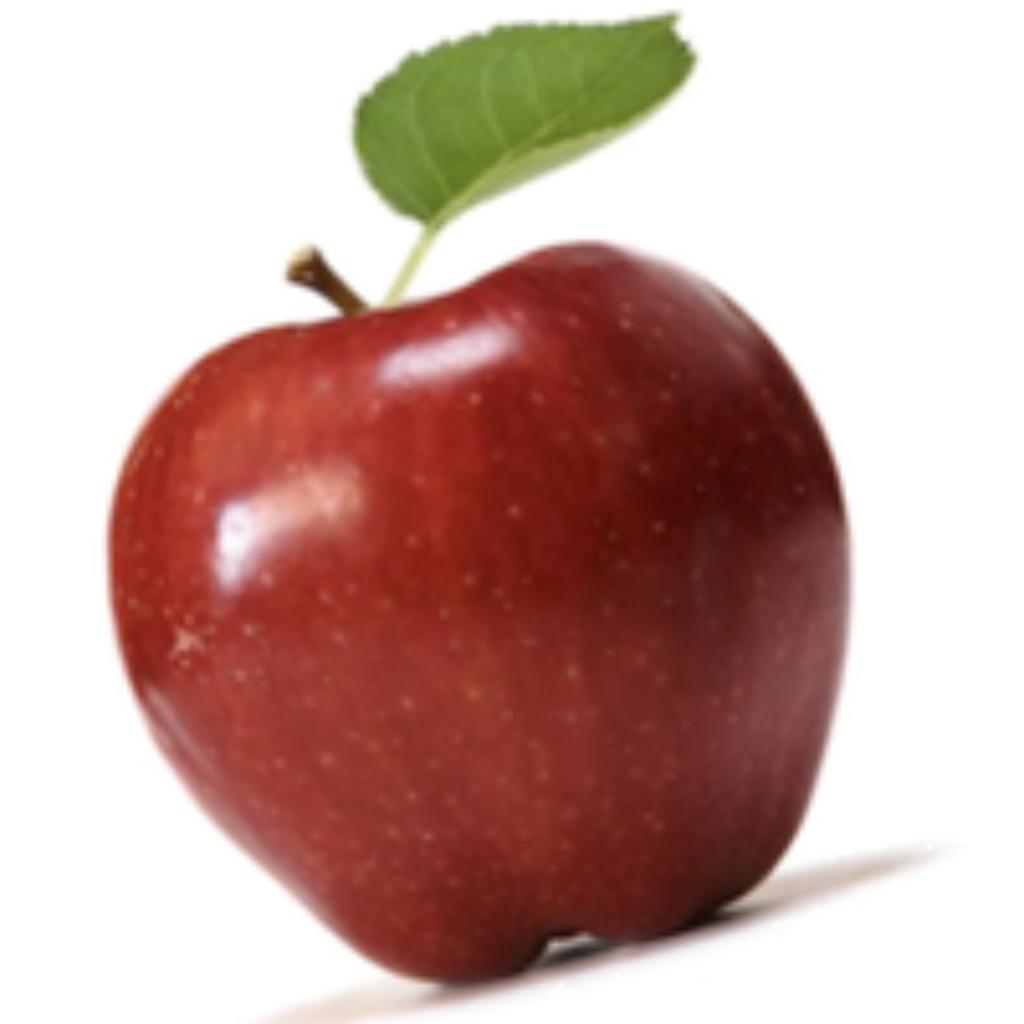apple: (97, 7, 957, 1019)
